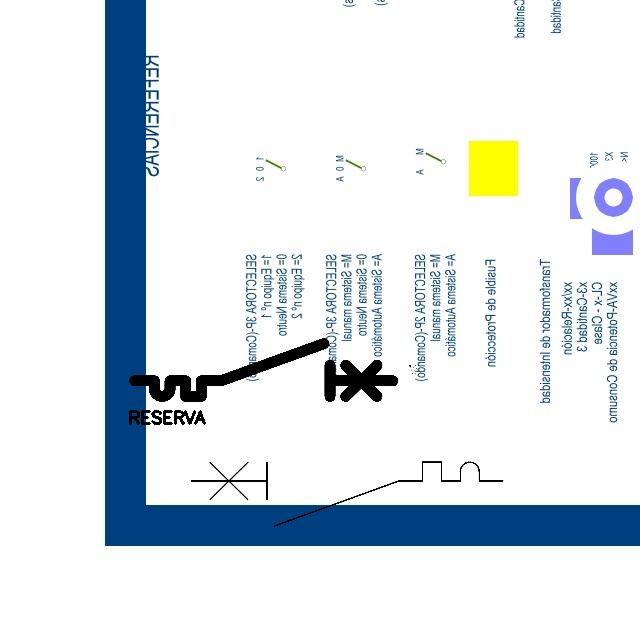interruptor_termomagnetico: (183, 454, 511, 534), (128, 337, 399, 403)
